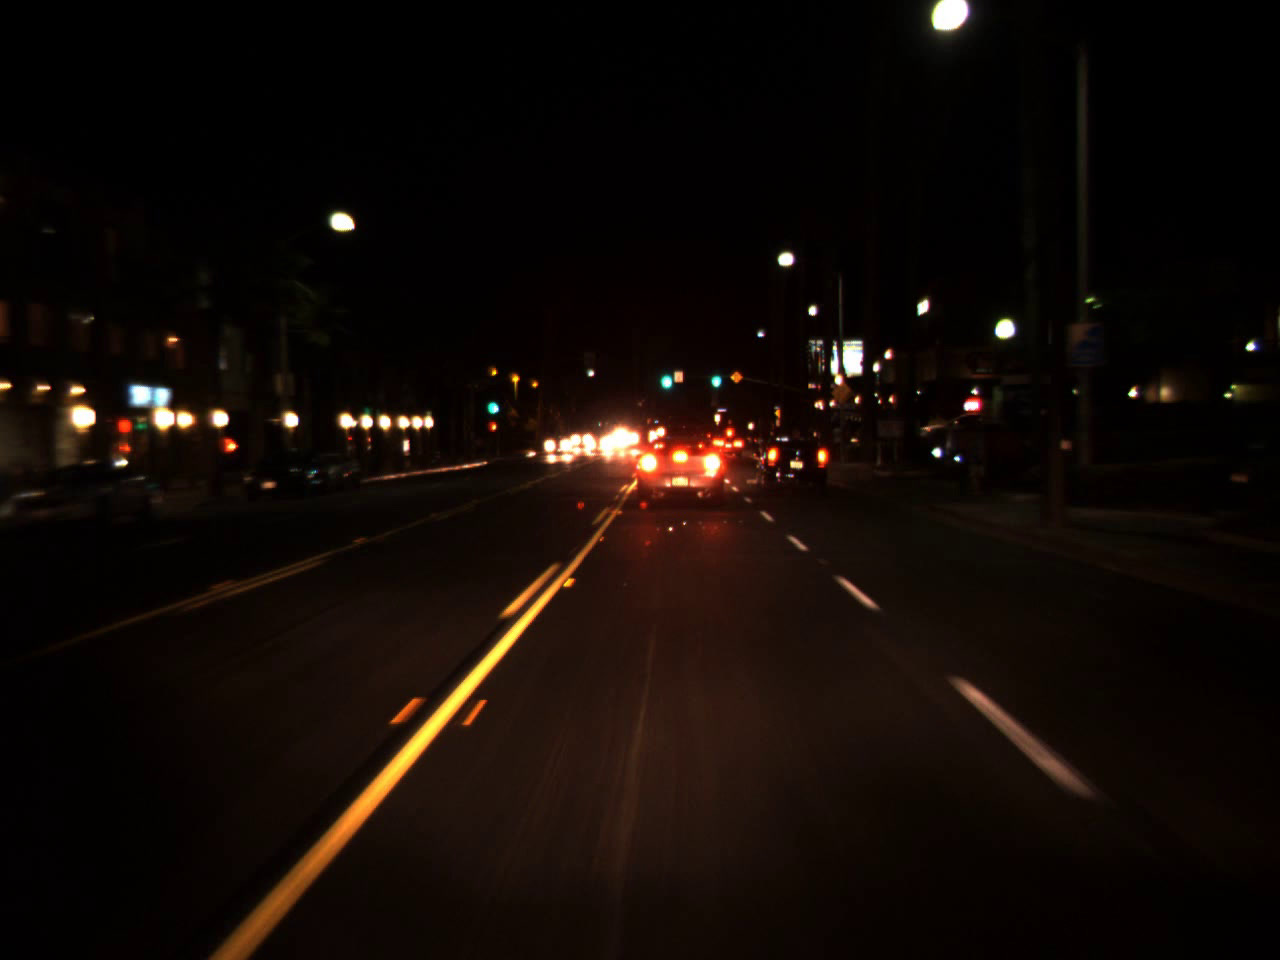go: (657, 358, 675, 394), (708, 363, 722, 390), (485, 388, 497, 418)
